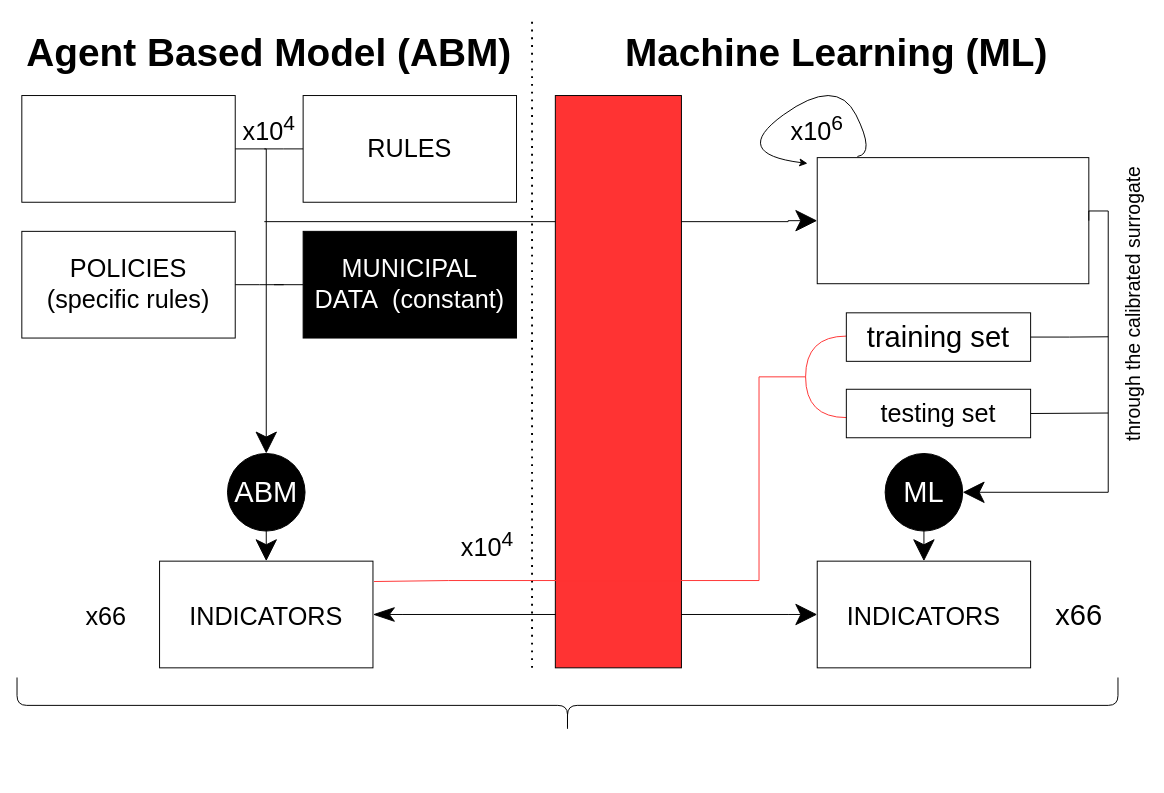
The diagram is 1164 pixels wide and 793 high, and some of its shapes have lost their labels. The box of each missing label's shape, as (x1, y1, x2, y2) in pixels:
Is output socially optimal? Gini < .25 & GDP >.75: (554, 95, 681, 668)
PARAMETERS: (21, 95, 235, 202)
PARAMETERS, RULES, POLICIES: (816, 157, 1089, 284)
Which policies to which cities?: (16, 677, 1118, 733)
